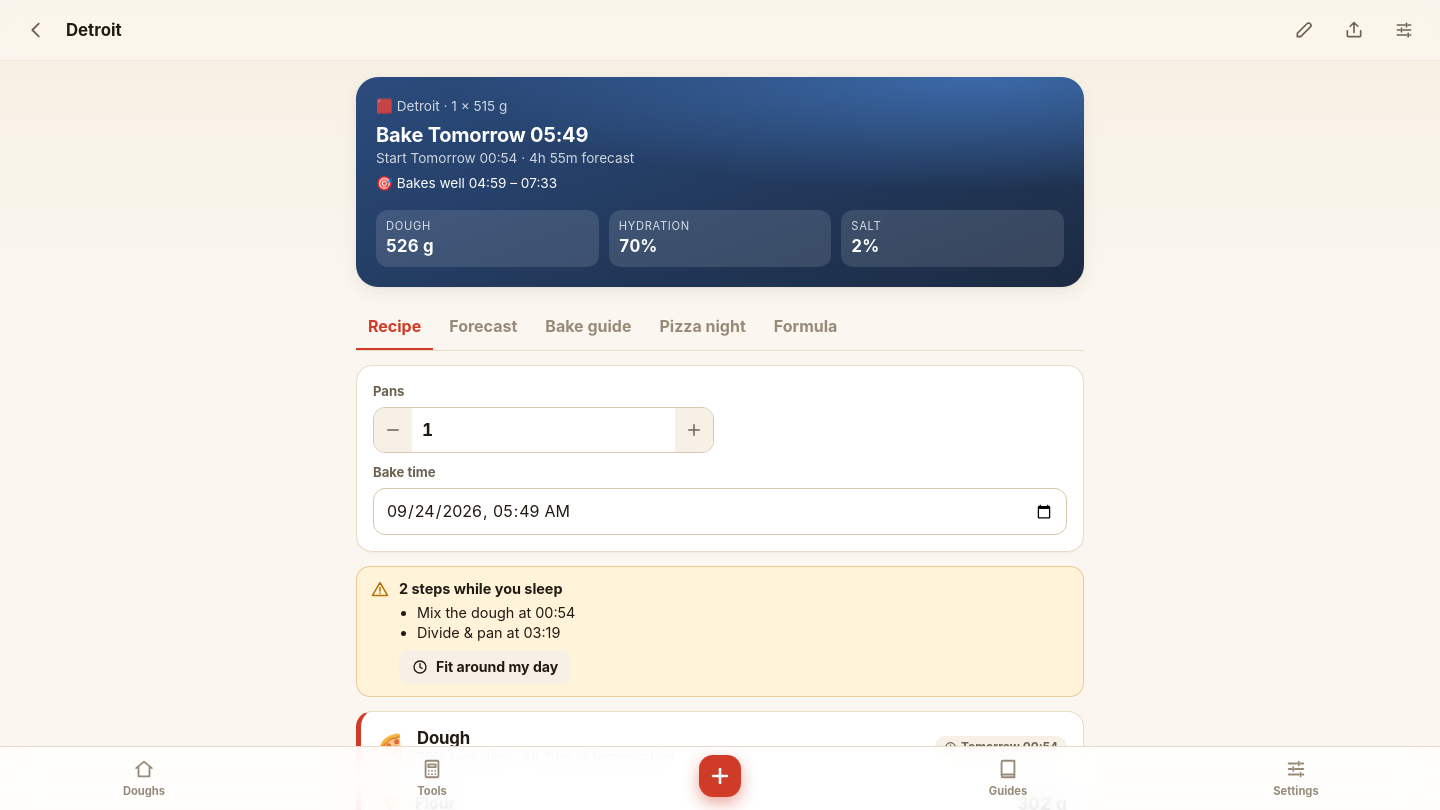
Test: a saved dough › duplicates and deletes from the menu
This screenshot has width=1440, height=810.
Click the button named "More" at [1404, 30], box [1384, 10, 1424, 50]
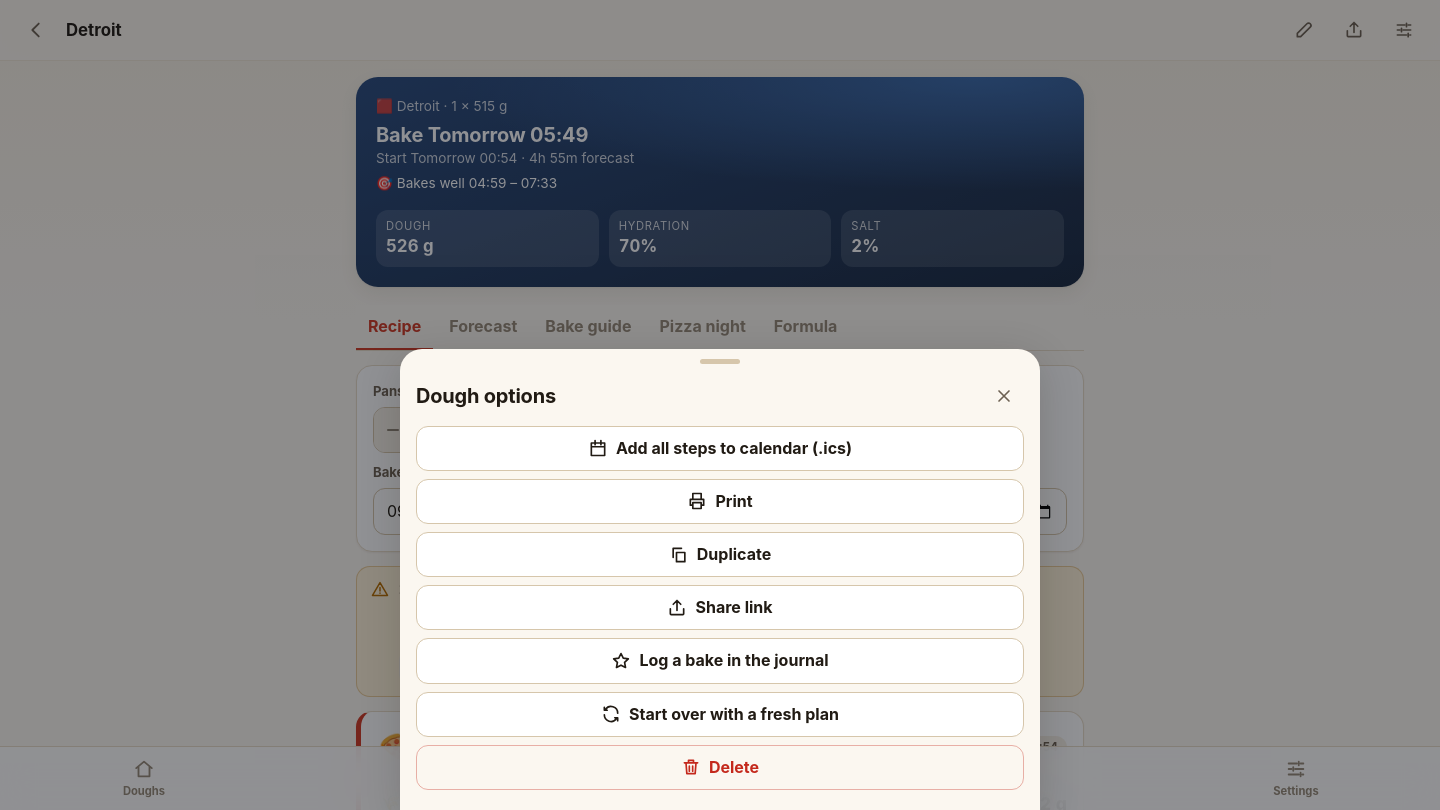
Click the button "Duplicate" at [720, 555], box [416, 532, 1024, 577]
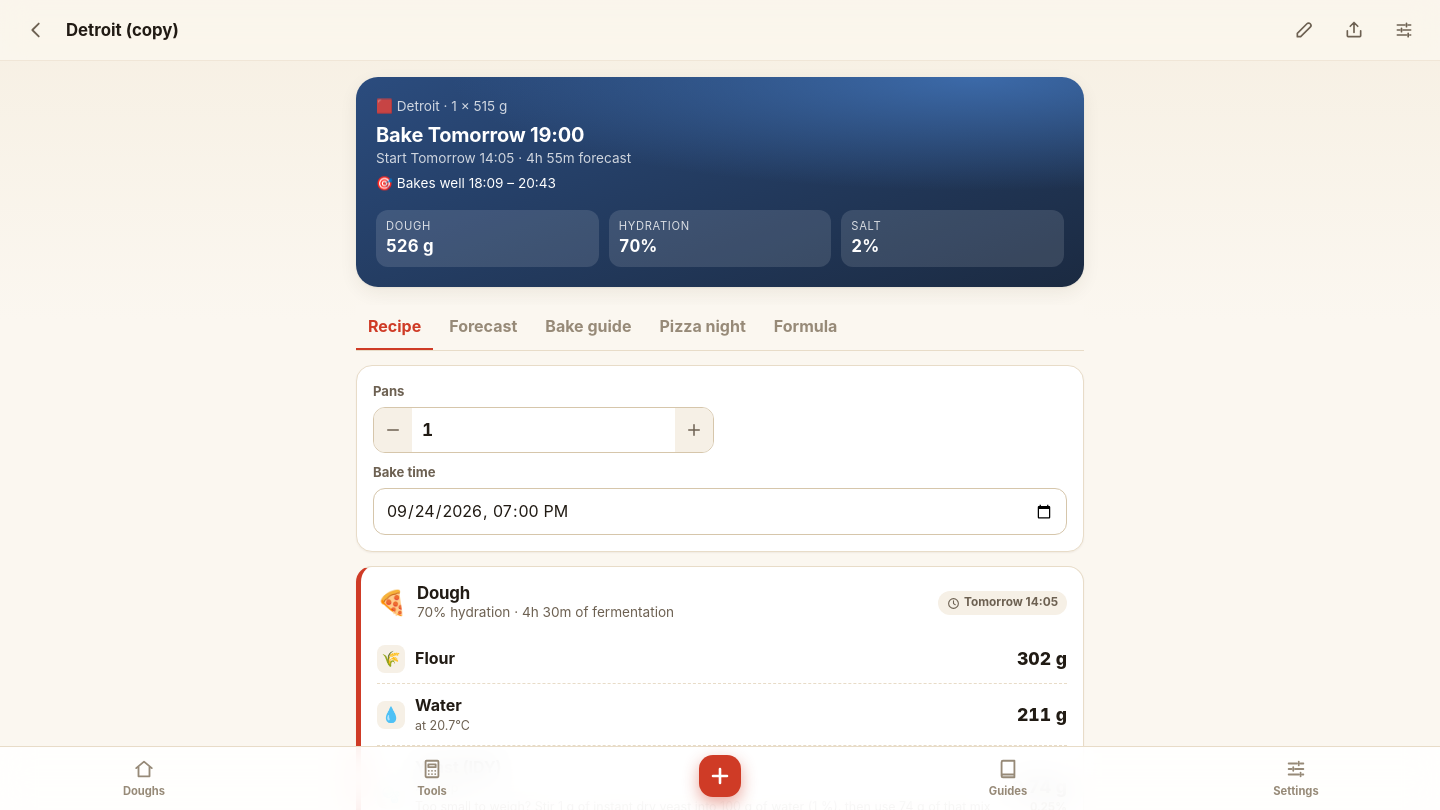
Click the button named "More" at [1404, 30], box [1384, 10, 1424, 50]
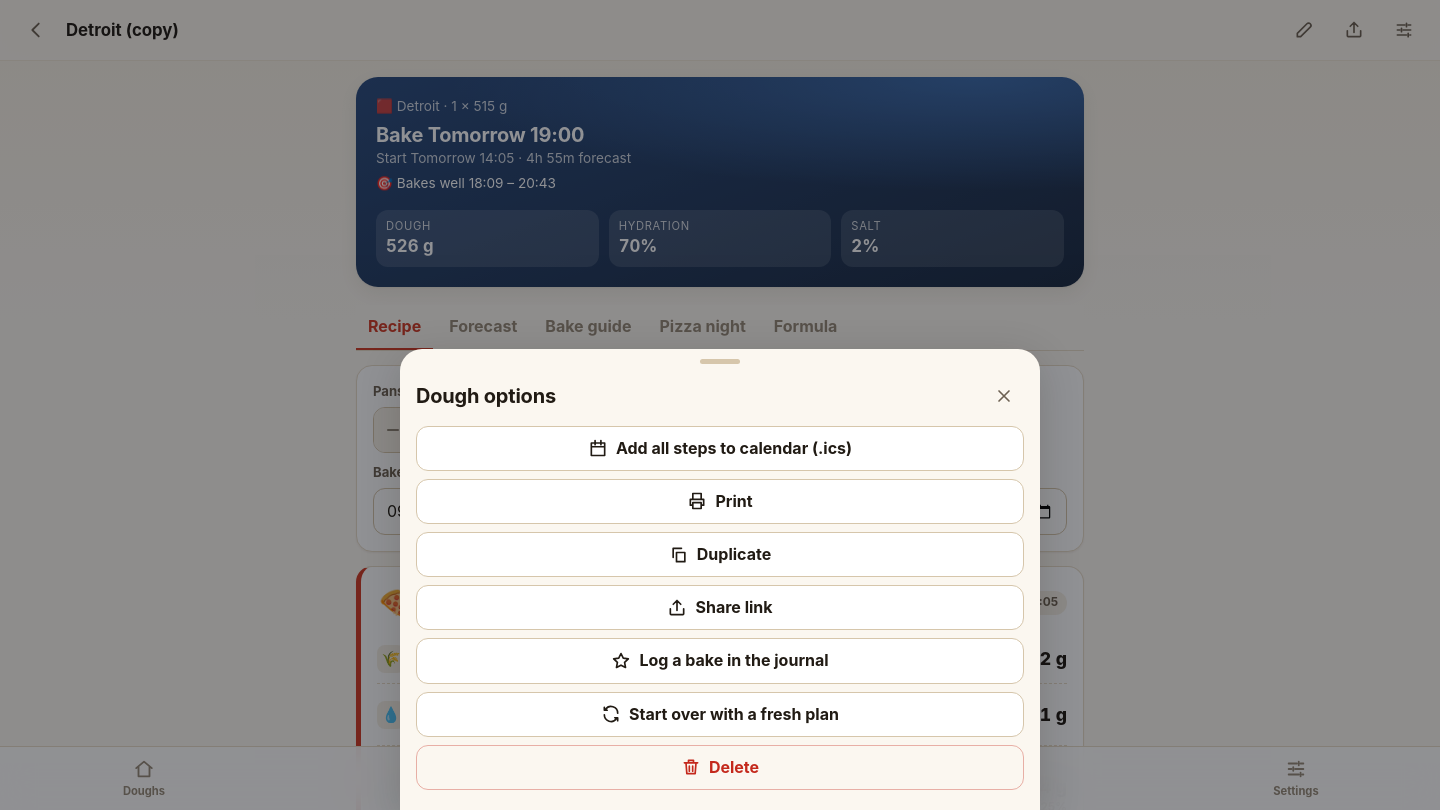
Click the button "Delete" at [720, 767], box [416, 745, 1024, 790]
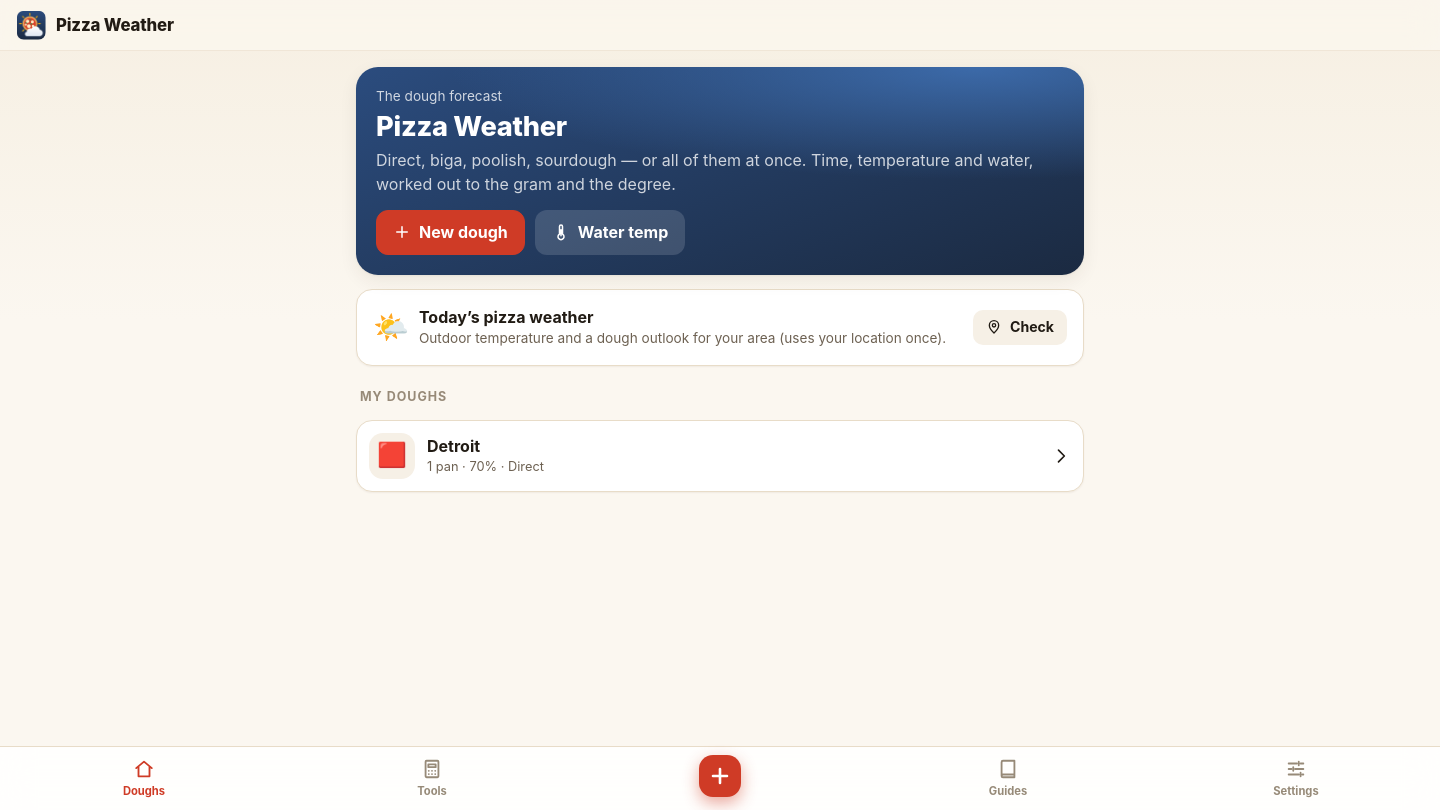
expect the heading "Pizza Weather" is shown: met, box [376, 110, 567, 143]
